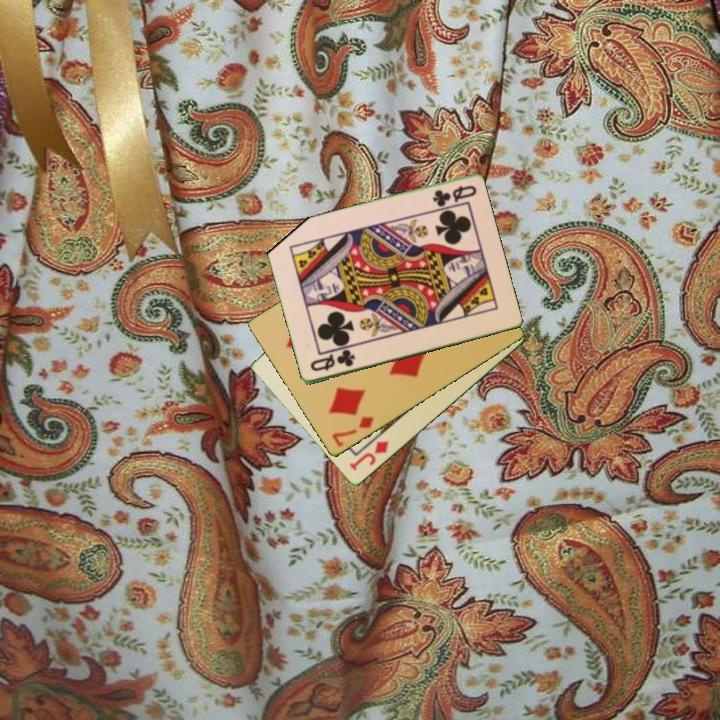7d: (328, 413, 377, 450)
Jd: (346, 437, 392, 474)
Qc: (306, 347, 358, 375), (429, 182, 479, 209)
